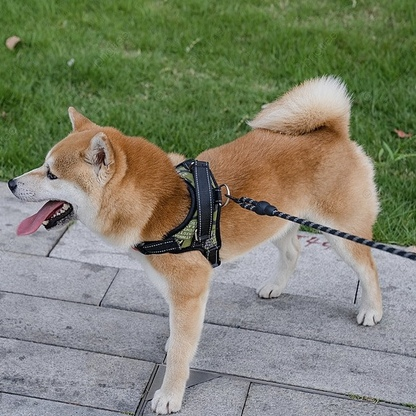shiba: (1, 65, 389, 416)
